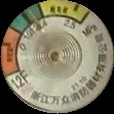green: (9, 4, 45, 35)
needle: (28, 8, 47, 35)
red: (1, 27, 23, 77)
yellow: (39, 2, 91, 23)
